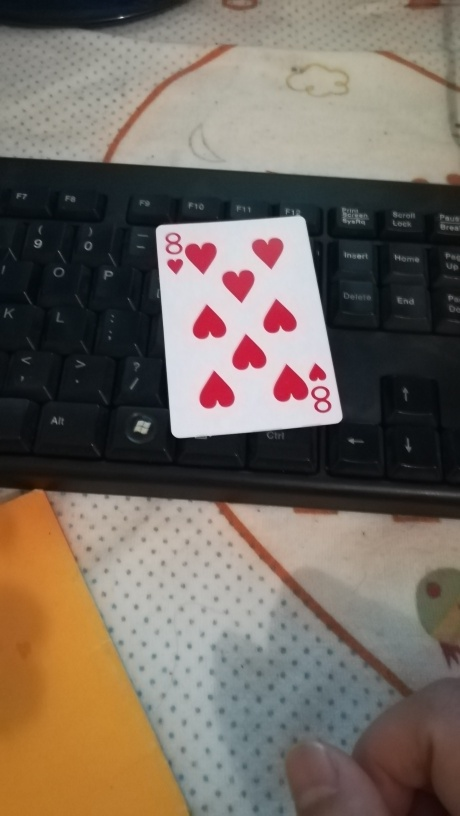hx 8: (153, 213, 344, 437)
